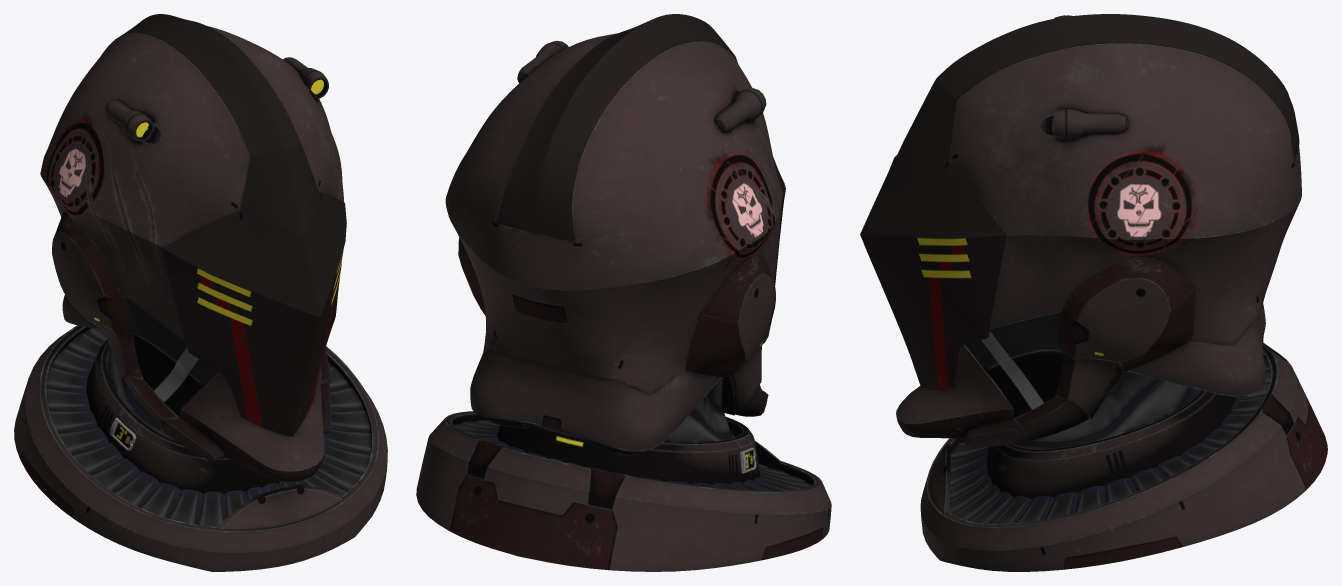
Rendered from stylized_sci-fi_helmet.glb.
3 views of the same model, side by side, from view 1: azimuth 30°, elevation 25°; view 2: azimuth 150°, elevation 25°; view 3: azimuth 270°, elevation 25° (orthographic). The views are drawn at different scales.
Parts seen in each view (by area): view 1: Low_Poly_Helmet:Group44237, Low_Poly_Helmet:Group60864, Low_Poly_Helmet:Group37280, Low_Poly_Helmet:Group32524, Low_Poly_Helmet:Group30842, Low_Poly_Helmet:Group43259, Low_Poly_Helmet:Group59250, Low_Poly_Helmet:Group65225, Low_Poly_Helmet:Group18341, Low_Poly_Helmet:Group21833, Low_Poly_Helmet:Group42444, Low_Poly_Helmet:Group38137 (+6 smaller); view 2: Low_Poly_Helmet:Group44237, Low_Poly_Helmet:Group37280, Low_Poly_Helmet:Group30842, Low_Poly_Helmet:Group64070, Low_Poly_Helmet:Group59250, Low_Poly_Helmet:Group65225, Low_Poly_Helmet:Group32524, Low_Poly_Helmet:Group10805, Low_Poly_Helmet:Group38137, Low_Poly_Helmet:Group51674, Low_Poly_Helmet:Group22314; view 3: Low_Poly_Helmet:Group44237, Low_Poly_Helmet:Group37280, Low_Poly_Helmet:Group60864, Low_Poly_Helmet:Group65225, Low_Poly_Helmet:Group30842, Low_Poly_Helmet:Group59250, Low_Poly_Helmet:Group32524, Low_Poly_Helmet:Group21833, Low_Poly_Helmet:Group43259, Low_Poly_Helmet:Group64070, Low_Poly_Helmet:Group10805, Low_Poly_Helmet:Group18341 (+5 smaller).
Boxes of the visible parts, bbox=[...] form: Low_Poly_Helmet:Group44237: bbox=[40, 26, 343, 341]; Low_Poly_Helmet:Group60864: bbox=[161, 191, 346, 437]; Low_Poly_Helmet:Group37280: bbox=[14, 325, 387, 571]; Low_Poly_Helmet:Group32524: bbox=[46, 328, 371, 526]; Low_Poly_Helmet:Group30842: bbox=[101, 14, 300, 155]; Low_Poly_Helmet:Group43259: bbox=[180, 357, 324, 481]; Low_Poly_Helmet:Group59250: bbox=[86, 339, 280, 494]; Low_Poly_Helmet:Group65225: bbox=[52, 212, 138, 335]; Low_Poly_Helmet:Group18341: bbox=[240, 144, 318, 235]; Low_Poly_Helmet:Group21833: bbox=[125, 296, 218, 418]; Low_Poly_Helmet:Group42444: bbox=[217, 484, 342, 530]; Low_Poly_Helmet:Group38137: bbox=[105, 57, 328, 141]; Low_Poly_Helmet:Group44237: bbox=[445, 33, 782, 393]; Low_Poly_Helmet:Group37280: bbox=[416, 411, 831, 571]; Low_Poly_Helmet:Group30842: bbox=[496, 14, 734, 242]; Low_Poly_Helmet:Group64070: bbox=[470, 349, 720, 455]; Low_Poly_Helmet:Group59250: bbox=[496, 417, 760, 484]; Low_Poly_Helmet:Group65225: bbox=[458, 237, 775, 377]; Low_Poly_Helmet:Group32524: bbox=[454, 420, 811, 490]; Low_Poly_Helmet:Group10805: bbox=[664, 377, 734, 443]; Low_Poly_Helmet:Group38137: bbox=[517, 40, 766, 133]; Low_Poly_Helmet:Group51674: bbox=[721, 345, 762, 415]; Low_Poly_Helmet:Group22314: bbox=[727, 384, 767, 416]; Low_Poly_Helmet:Group44237: bbox=[949, 43, 1301, 343]; Low_Poly_Helmet:Group37280: bbox=[920, 343, 1327, 571]; Low_Poly_Helmet:Group60864: bbox=[860, 155, 1006, 388]; Low_Poly_Helmet:Group65225: bbox=[1056, 256, 1195, 372]; Low_Poly_Helmet:Group30842: bbox=[936, 14, 1299, 161]; Low_Poly_Helmet:Group59250: bbox=[986, 390, 1236, 499]; Low_Poly_Helmet:Group32524: bbox=[949, 358, 1270, 524]; Low_Poly_Helmet:Group21833: bbox=[965, 311, 1064, 418]; Low_Poly_Helmet:Group43259: bbox=[896, 344, 1013, 438]; Low_Poly_Helmet:Group64070: bbox=[1127, 303, 1265, 397]; Low_Poly_Helmet:Group10805: bbox=[1014, 371, 1201, 448]; Low_Poly_Helmet:Group18341: bbox=[896, 78, 957, 159].
Size of the model in its own units: 0.0166 by 0.0232 by 0.0192.
1 material, 1 textured.
